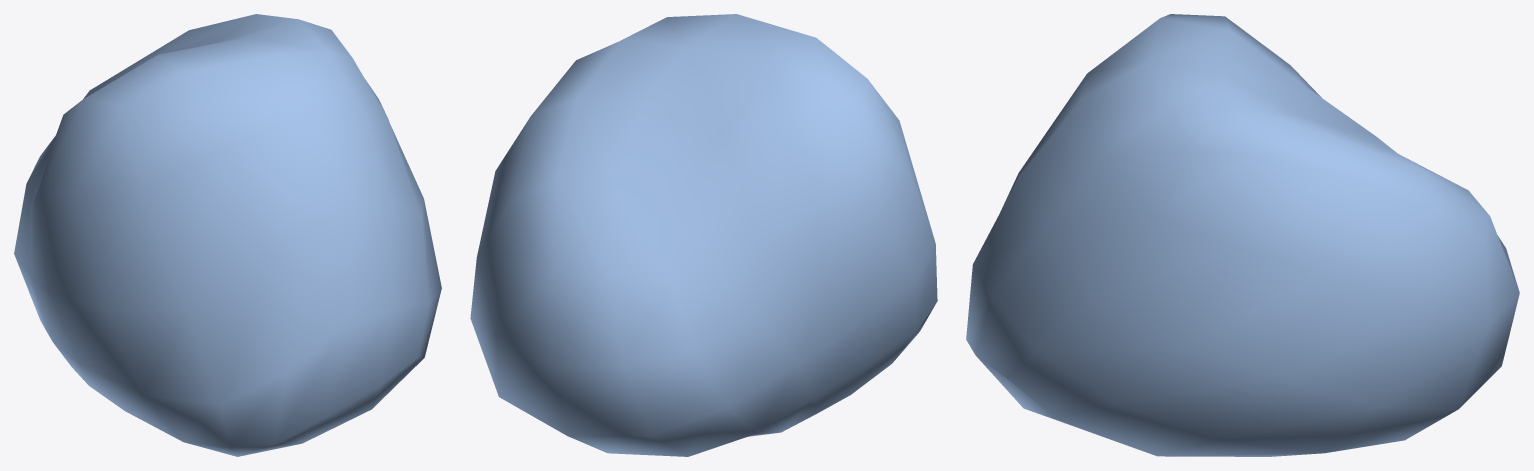
Rendered from Rock3.fbx.
The picture shows the model from 3 angles, left to right: view 1: azimuth 30°, elevation 25°; view 2: azimuth 150°, elevation 25°; view 3: azimuth 270°, elevation 25°; orthographic projection. The views are drawn at different scales.
Visible parts, largest first — view 1: Rock.003; view 2: Rock.003; view 3: Rock.003.
Boxes of the visible parts, bbox=[...] form: Rock.003: bbox=[14, 14, 441, 456]; Rock.003: bbox=[470, 14, 937, 456]; Rock.003: bbox=[966, 14, 1519, 456].
Bounding box in the file's own units: 647 × 571 × 782.
